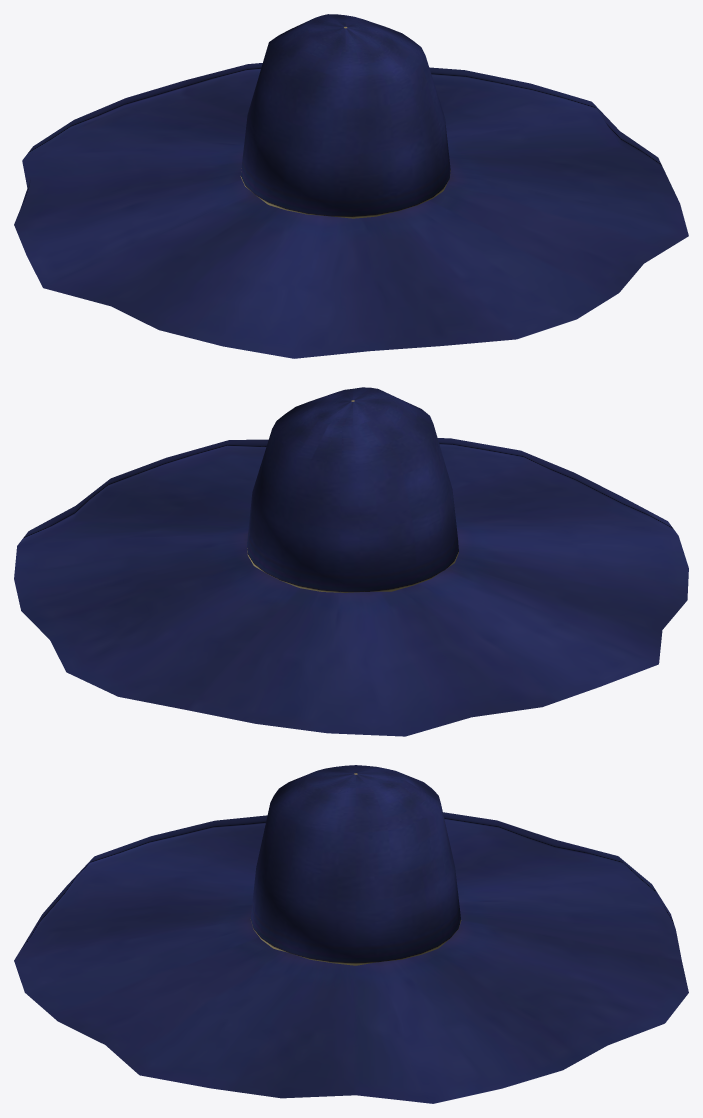
File: night_wide_head.glb
3 views of the same model, one above another, from view 1: azimuth 30°, elevation 25°; view 2: azimuth 150°, elevation 25°; view 3: azimuth 270°, elevation 25° (orthographic).
Visible parts, largest first — view 1: night_wide_head; view 2: night_wide_head; view 3: night_wide_head.
Part boxes in pixels (<box>): night_wide_head: <box>14,14,688,358</box>; night_wide_head: <box>14,387,688,736</box>; night_wide_head: <box>14,765,688,1103</box>.
Size of the model in its own units: 0.55 by 0.1647 by 0.5394.
Materials: 1 (1 with a texture image).
